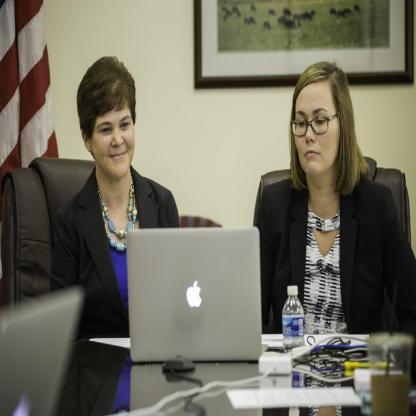board: (126, 227, 270, 363), (0, 285, 83, 416), (284, 284, 305, 354)
